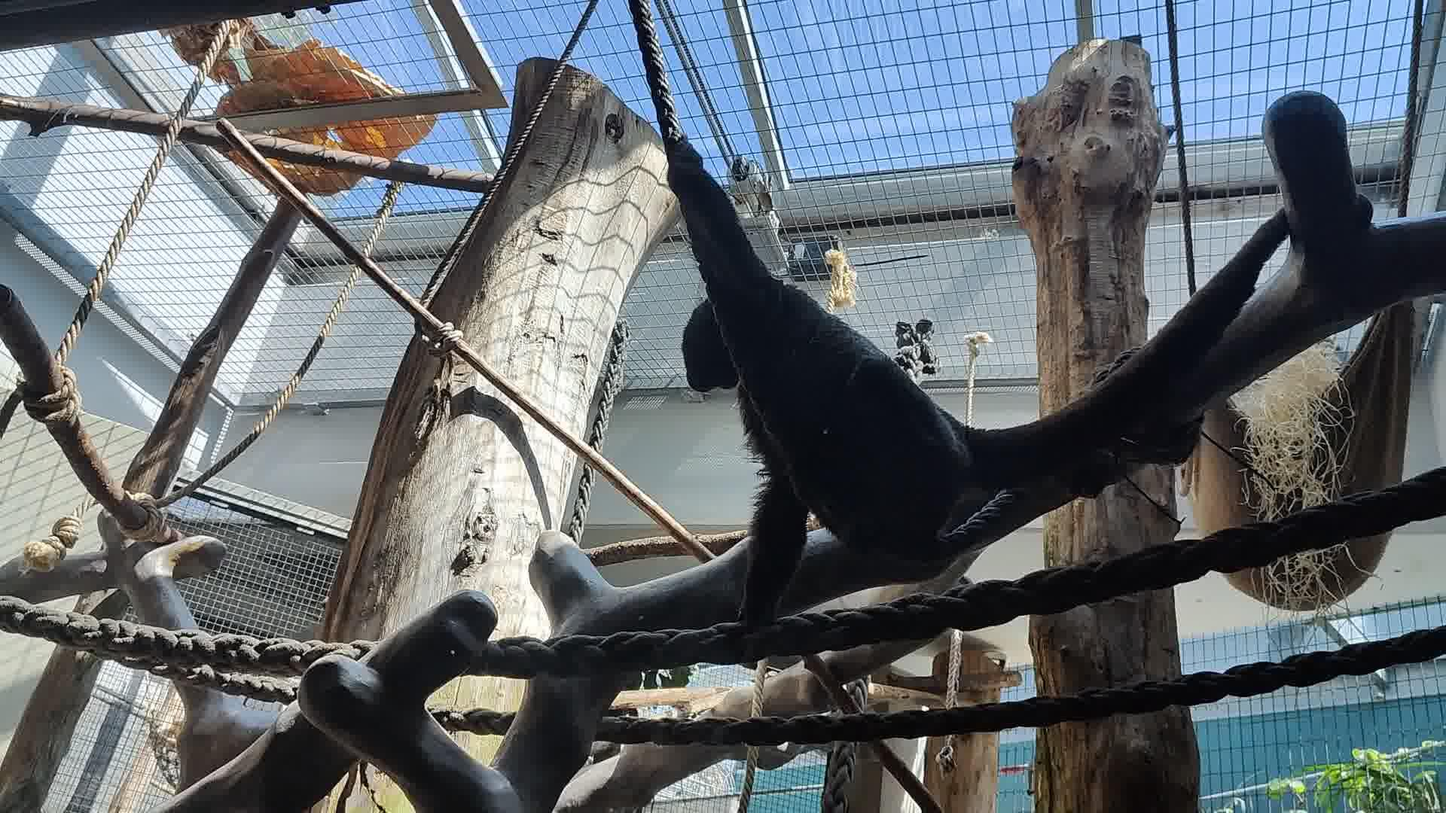boar: (665, 136, 971, 625)
